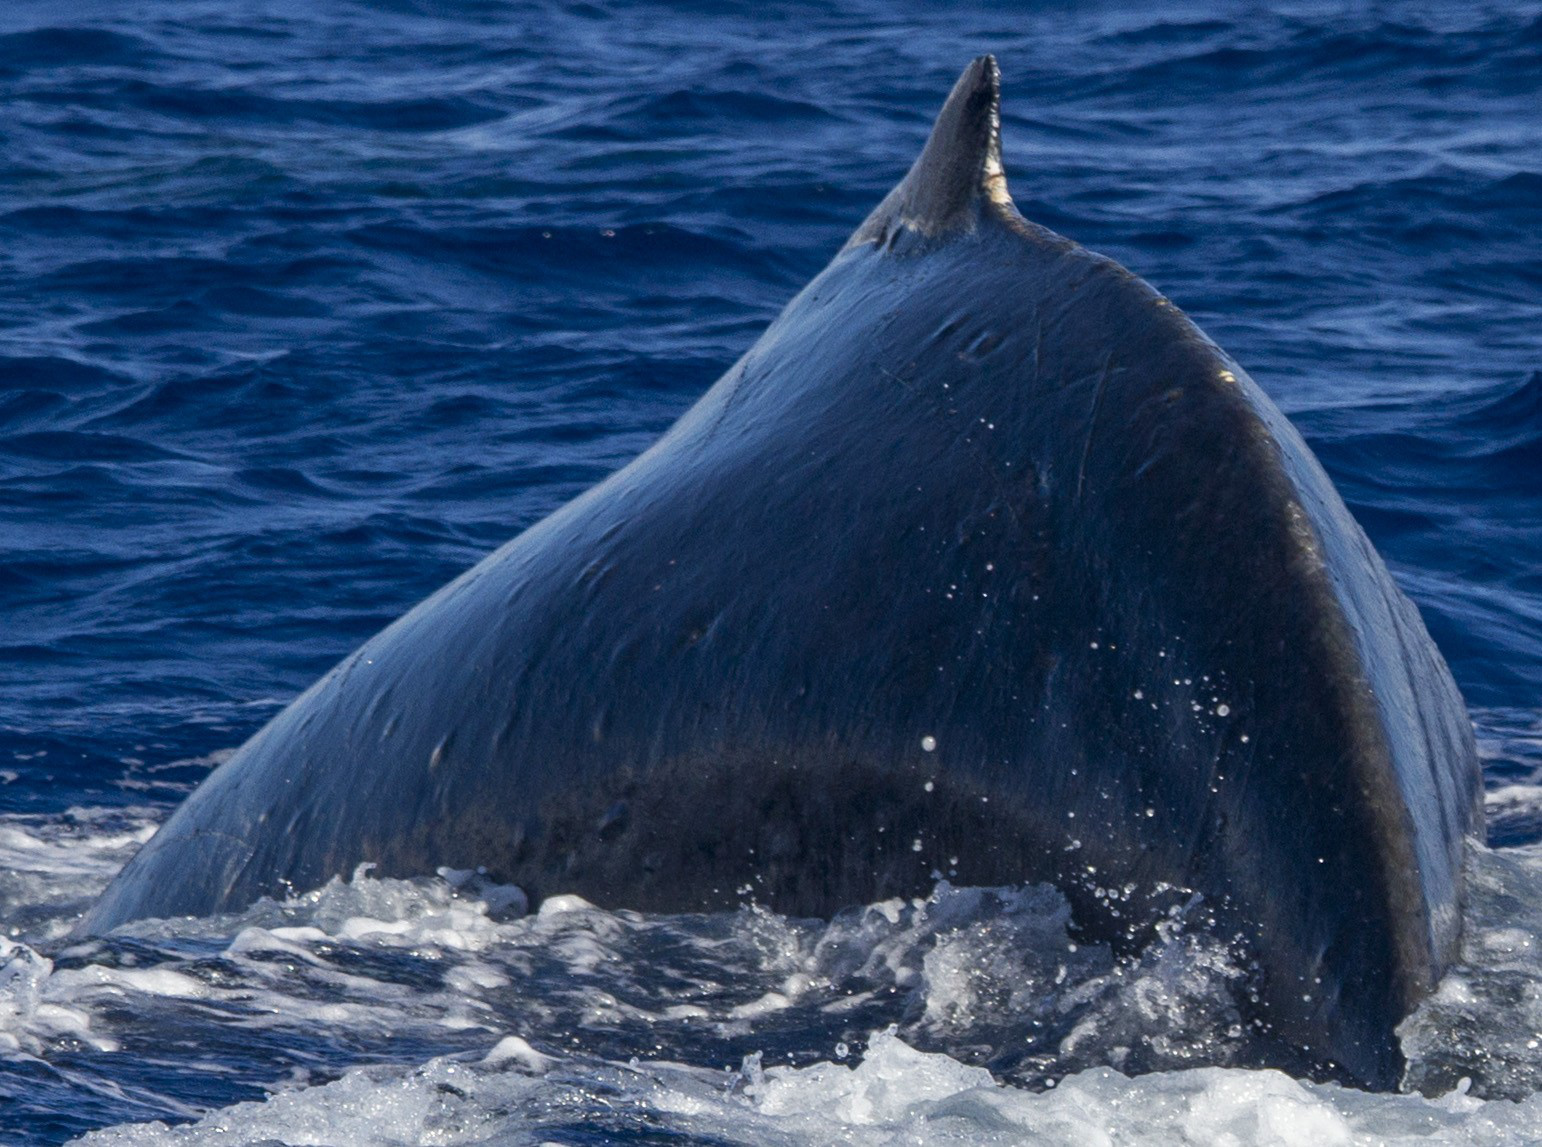fin: (746, 0, 1140, 388)
